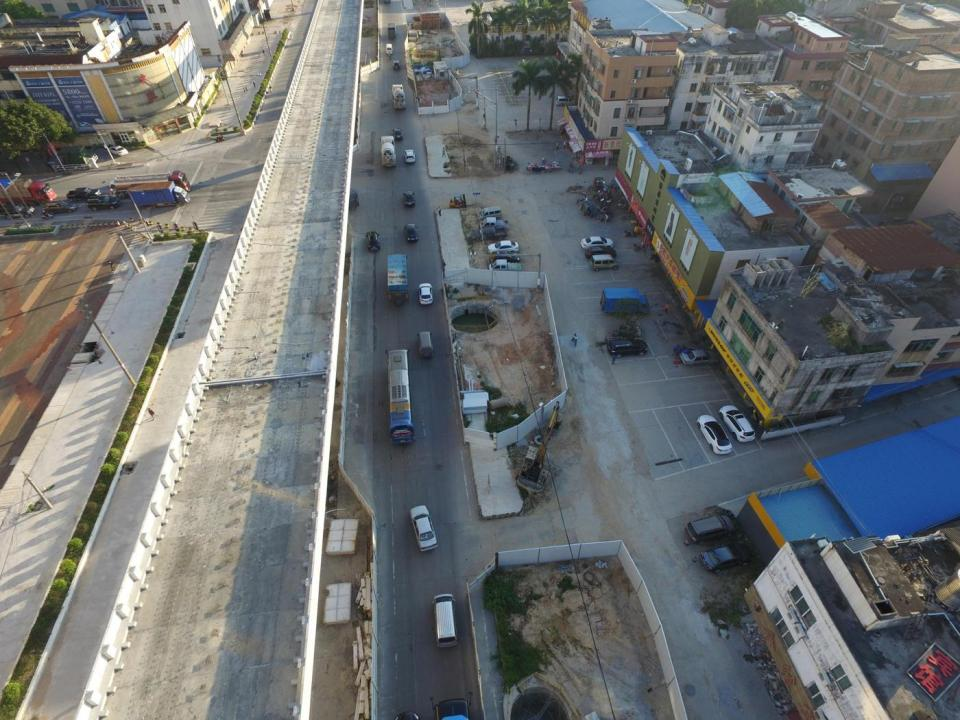bus: (385, 348, 416, 445)
car: (700, 544, 753, 574), (696, 414, 732, 455), (719, 405, 756, 443), (410, 505, 438, 552), (430, 692, 472, 720), (681, 346, 719, 368), (607, 338, 648, 358), (84, 196, 120, 211), (0, 204, 35, 219), (584, 245, 617, 259), (66, 187, 101, 200), (488, 240, 519, 254), (581, 237, 614, 250), (490, 250, 520, 263), (418, 283, 434, 305), (109, 176, 135, 189), (365, 230, 381, 251), (403, 223, 418, 243), (107, 145, 130, 157), (402, 190, 416, 207), (404, 149, 416, 164), (392, 128, 403, 141), (392, 60, 401, 70)
truck: (114, 172, 192, 196), (128, 180, 190, 208), (0, 178, 57, 206), (600, 287, 649, 316), (387, 254, 409, 304), (379, 135, 397, 167), (488, 258, 521, 275), (472, 225, 507, 241), (478, 217, 509, 230), (391, 84, 406, 109)
van: (685, 513, 735, 544), (431, 593, 457, 648), (589, 253, 619, 272), (416, 331, 432, 358), (43, 201, 78, 212), (478, 206, 502, 222), (385, 43, 393, 55)
